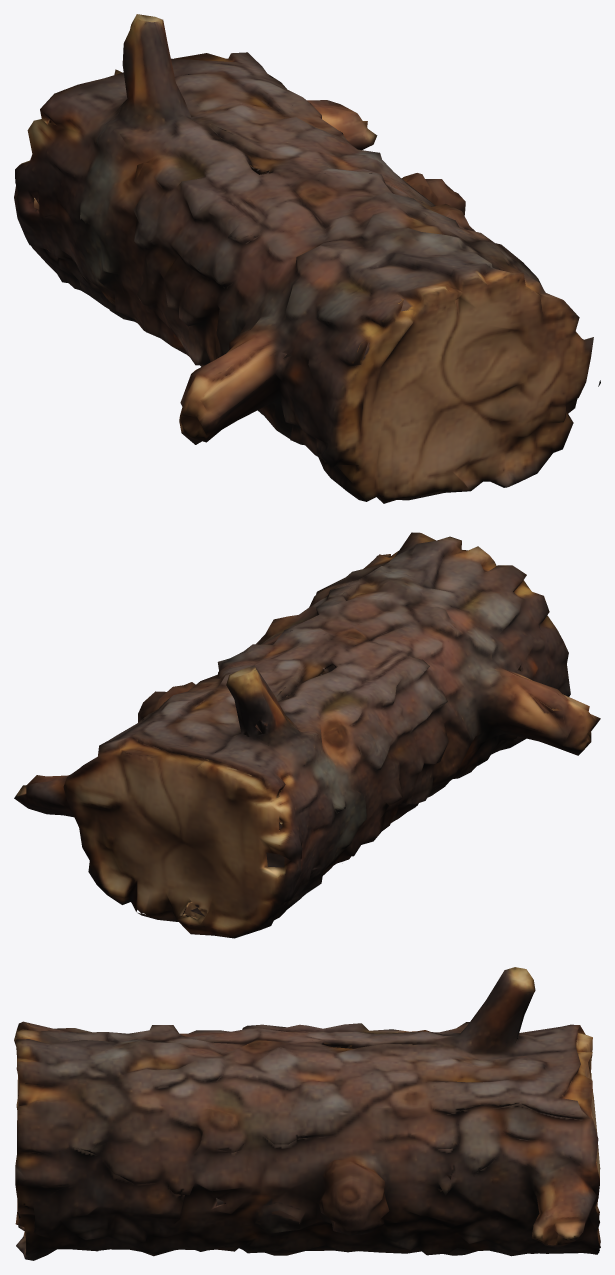
The model's file is log.glb.
3 views of the same model, one above another, from view 1: azimuth 30°, elevation 25°; view 2: azimuth 150°, elevation 25°; view 3: azimuth 270°, elevation 25° (orthographic). The views are drawn at different scales.
Visible parts, largest first — view 1: MV_log; view 2: MV_log; view 3: MV_log.
Boxes of the visible parts, left/top/right/bottom form: MV_log: left=14, top=14, right=600, bottom=503; MV_log: left=14, top=532, right=600, bottom=938; MV_log: left=14, top=967, right=600, bottom=1260.
Size of the model in its own units: 1.1 by 0.7 by 1.48.
1 material, 1 textured.
